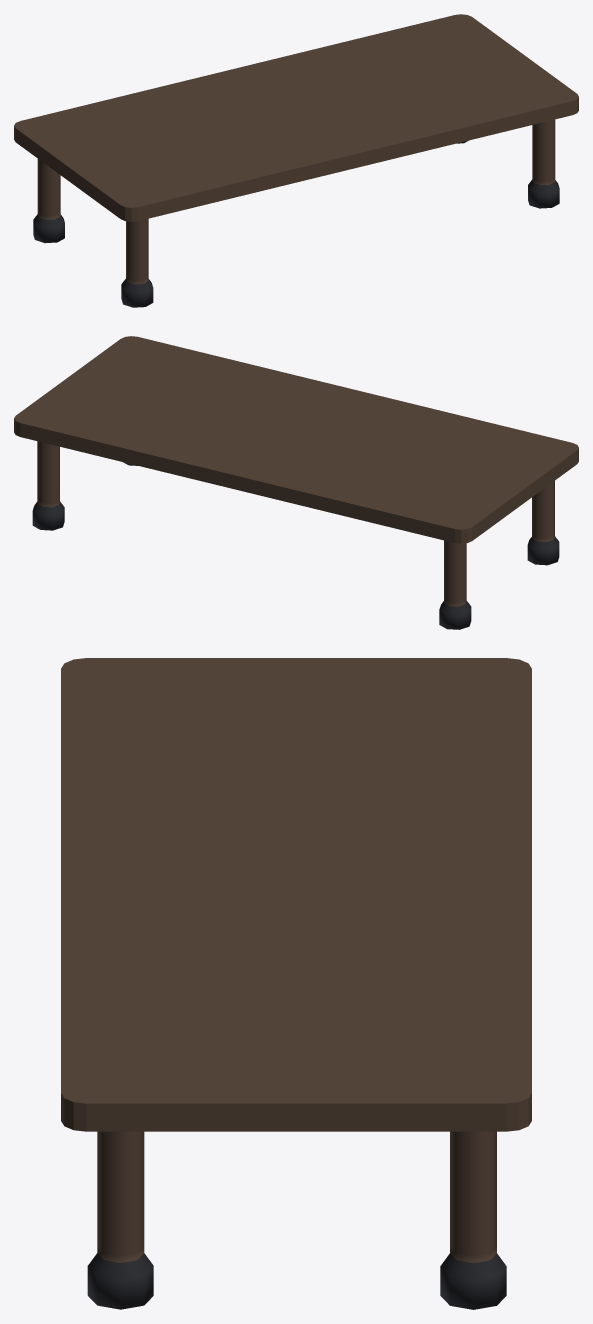
File: Cup_Spot.fbx
The picture shows the model from 3 angles, top to bottom: view 1: azimuth 30°, elevation 25°; view 2: azimuth 150°, elevation 25°; view 3: azimuth 270°, elevation 25°; orthographic projection. The views are drawn at different scales.
Visible parts, largest first — view 1: Cup_Spot; view 2: Cup_Spot; view 3: Cup_Spot.
Part boxes in pixels (<box>): Cup_Spot: <box>14,14,578,307</box>; Cup_Spot: <box>14,336,578,629</box>; Cup_Spot: <box>61,658,531,1309</box>.
Size of the model in its own units: 8.66 by 1.96 by 3.87.
